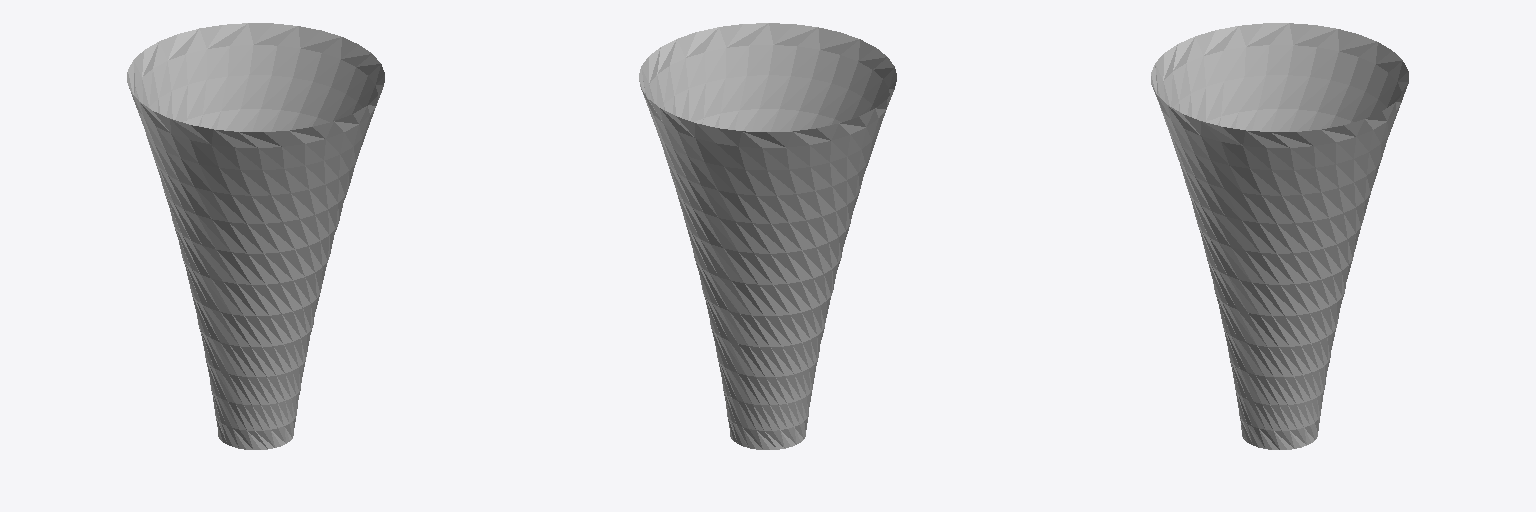
The model's file is VFXCurve11.obj.
The picture shows the model from 3 angles: view 1: azimuth 30°, elevation 25°; view 2: azimuth 150°, elevation 25°; view 3: azimuth 270°, elevation 25°; orthographic projection.
Parts seen in each view (by area): view 1: Sphere.004; view 2: Sphere.004; view 3: Sphere.004.
Boxes of the visible parts, <box> form: Sphere.004: <box>127,23,384,449</box>; Sphere.004: <box>639,23,896,449</box>; Sphere.004: <box>1151,23,1408,449</box>.
Bounding box in the file's own units: 1.64 × 2.5 × 1.64.